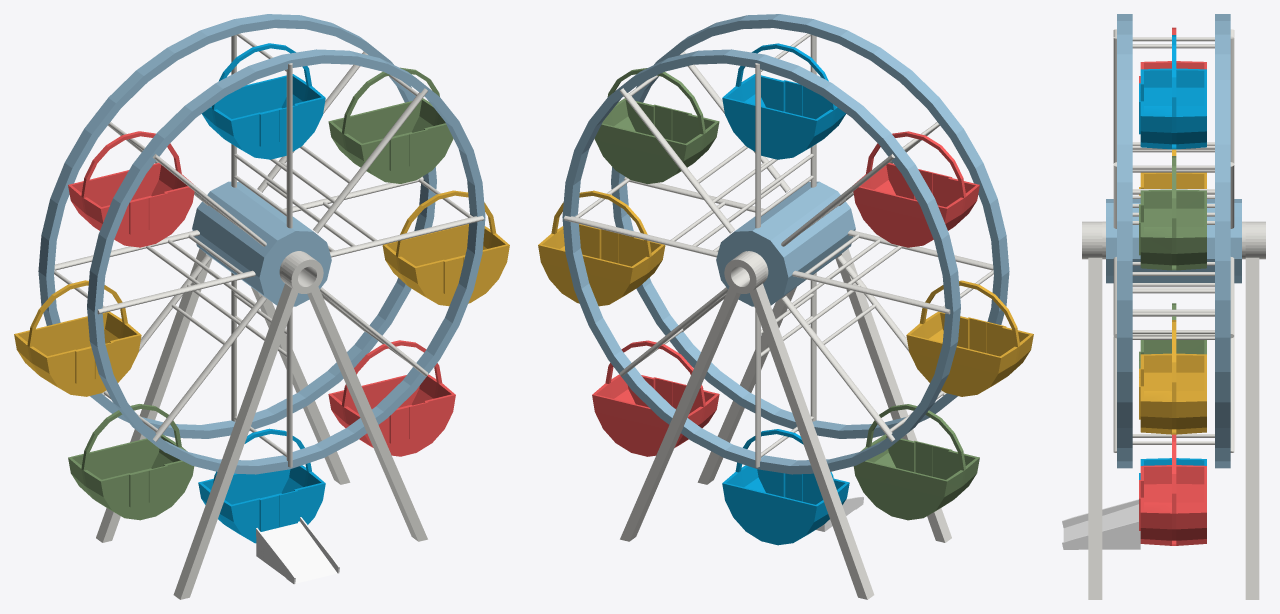
File: FerrisWheel_Remake.fbx
The picture shows the model from 3 angles, left to right: view 1: azimuth 30°, elevation 25°; view 2: azimuth 150°, elevation 25°; view 3: azimuth 270°, elevation 25°; orthographic projection.
Visible parts, largest first — view 1: FerrisWheel; view 2: FerrisWheel; view 3: FerrisWheel.
Part boxes in pixels (x1=…): FerrisWheel: x1=14, y1=14, x2=509, y2=599; FerrisWheel: x1=538, y1=14, x2=1033, y2=599; FerrisWheel: x1=1062, y1=14, x2=1265, y2=599.
Bounding box in the file's own units: 1312 × 491 × 1341.
